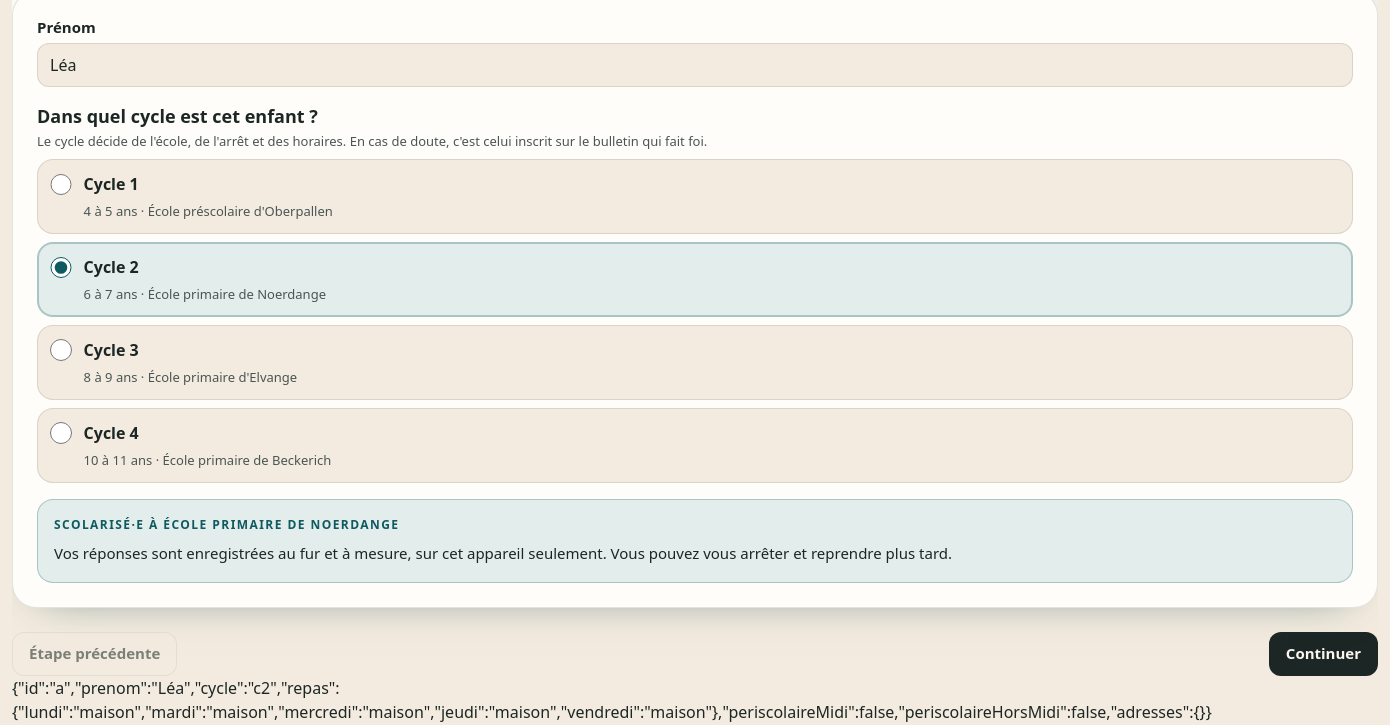
adresse du foyer dans l’assistant › reste modifiable tant qu’il n’y a qu’un enfant
The width and height of the screenshot is (1390, 725).
(page scrolled)
Step 1. Click the button "Continuer" → (1323, 654), box x1=1269 y1=632 x2=1378 y2=676
(page scrolled)
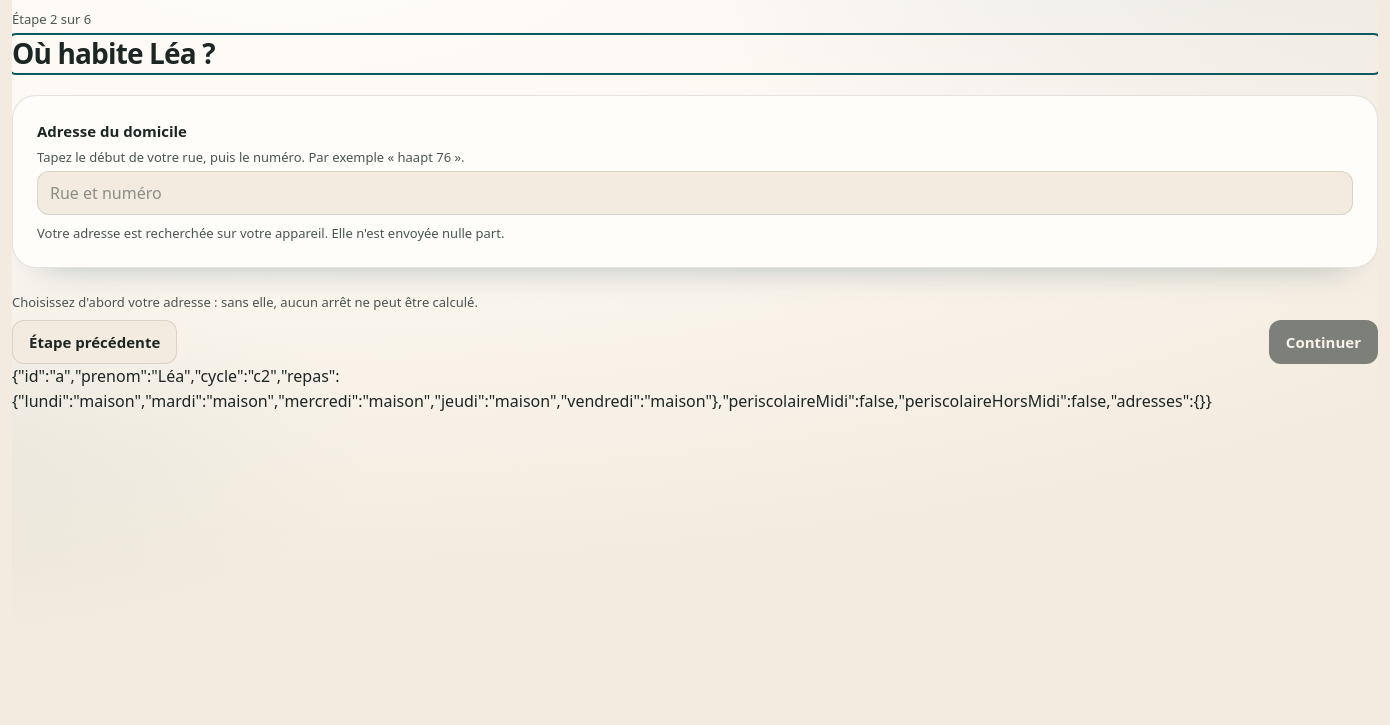
Expected: the dropdown labelled "Adresse du domicile" is shown, x1=37 y1=171 x2=1353 y2=215
